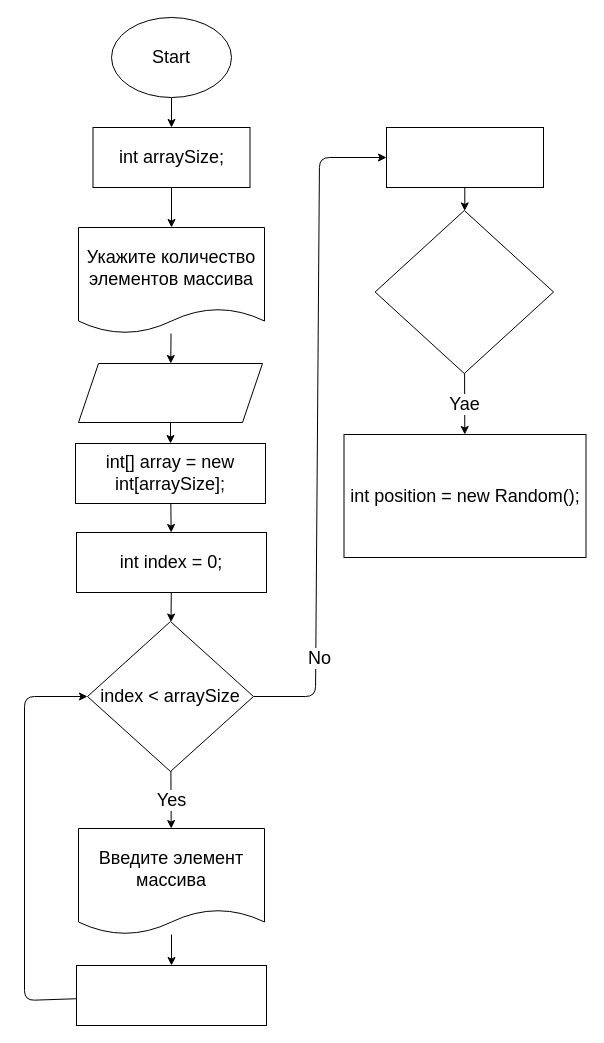
The diagram is 604 pixels wide and 1043 high, and some of its shapes have lost their labels. The centre of each missing label's shape, as x and y in pixels:
arraySize: the point at 170,392
index < oldArray.Lenght: the point at 464,292
index++;: the point at 171,995
int position = 0; index = 0;: the point at 465,157
